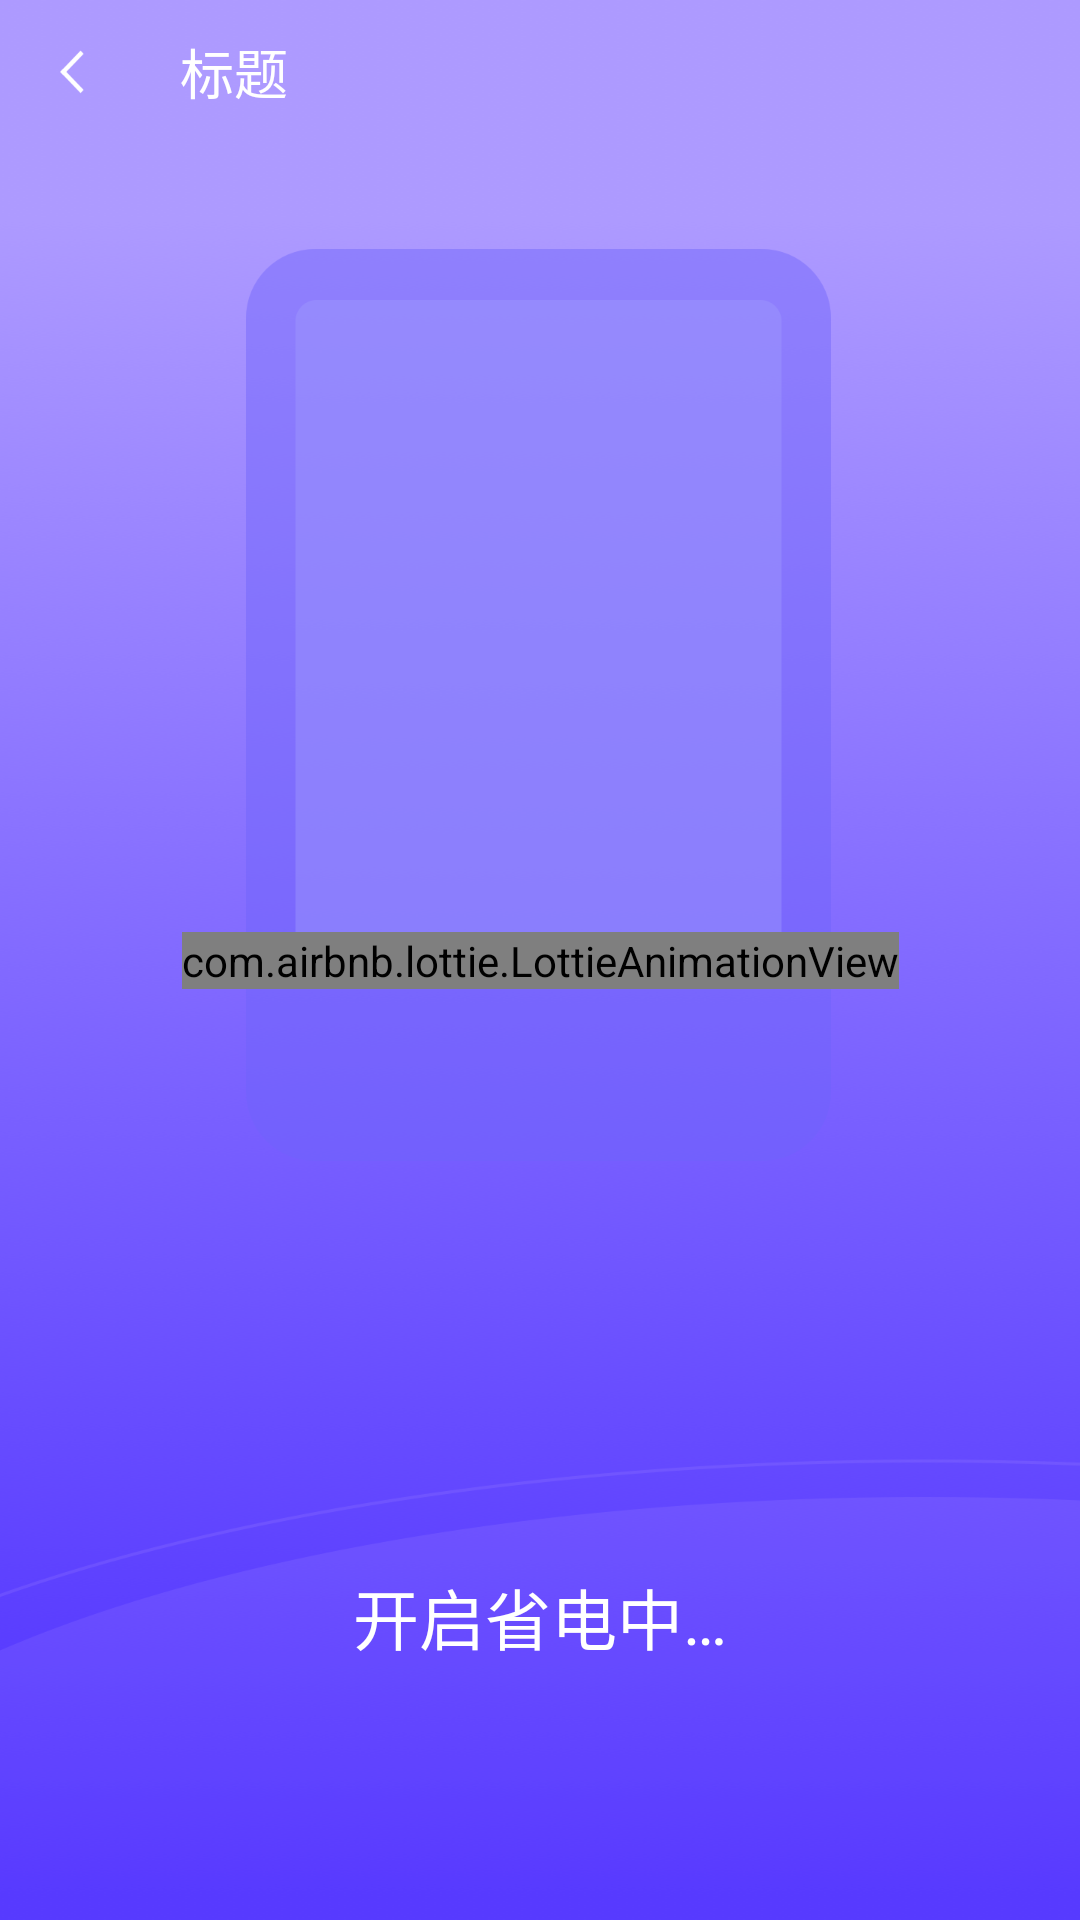

Icon bounding boxes for this 1080x1920 phone screenshot, format (x1, y1, x2, y2):
back: (60, 51, 83, 93)
